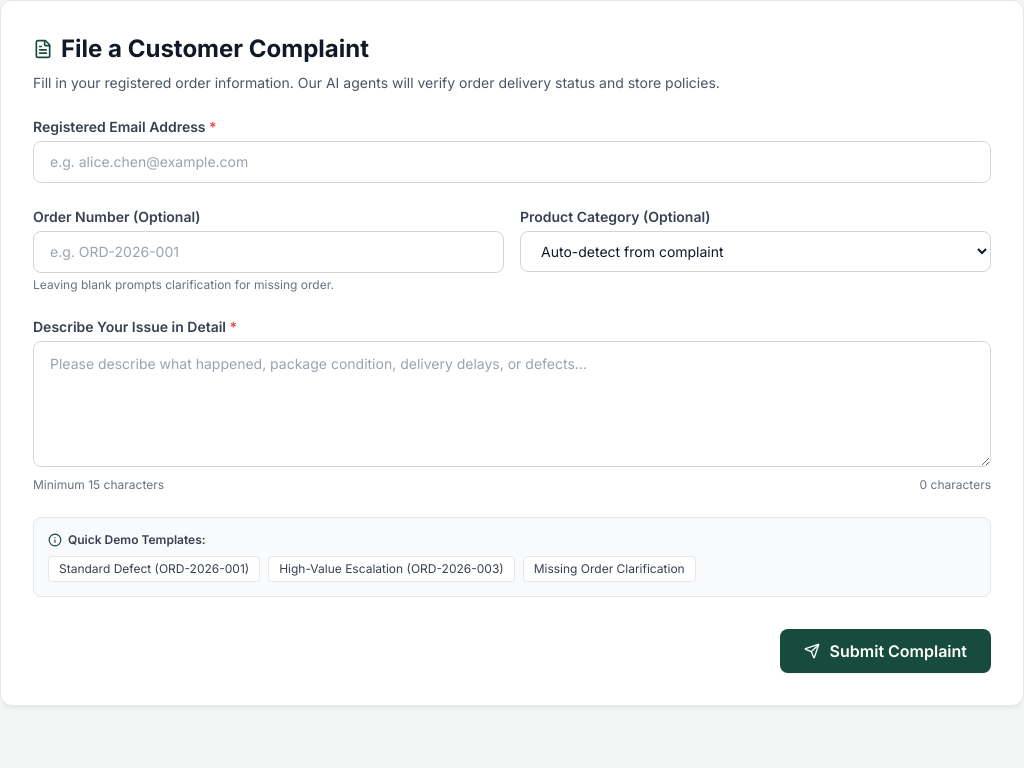
Test: Customer Portal Components › CustomerComplaintForm › validates required email and complaint description before submitting
Click the button "Submit Complaint". click: (885, 651)
box: [780,629,991,673]
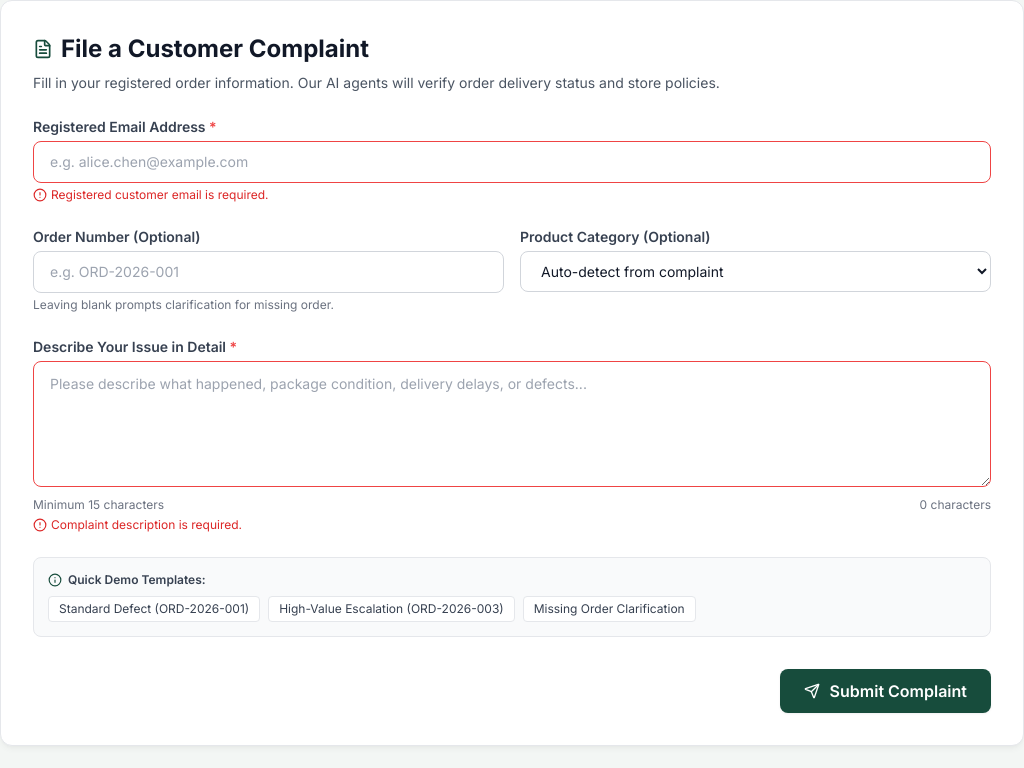
Check: the text "Registered customer email is required." is shown, box [33,187,268,202]
Check: the text "Complaint description is required." is shown, box [33,517,242,532]
